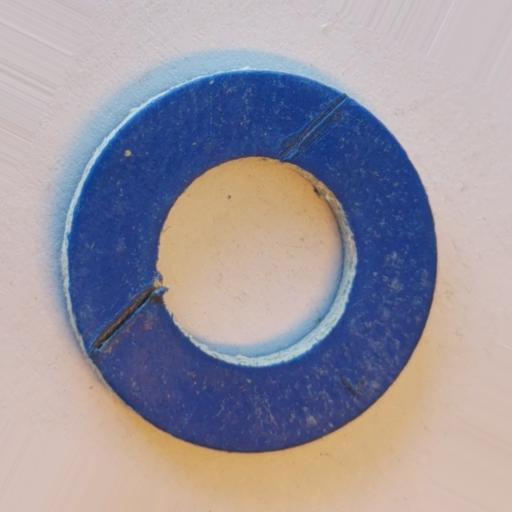defect: (88, 278, 167, 362), (282, 92, 350, 163)
